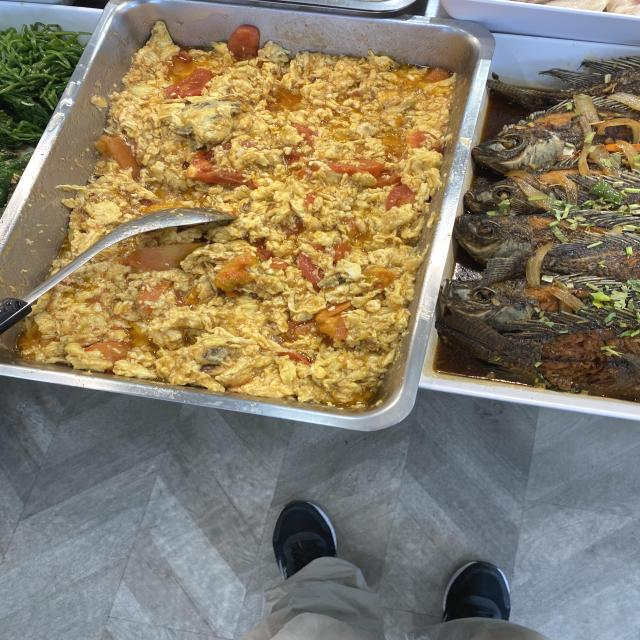Scramble Egg with Tomatoes: (127, 74, 423, 198)
